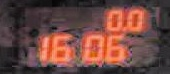-: (120, 25, 125, 29)
0: (80, 33, 103, 60), (103, 8, 122, 29), (125, 8, 143, 30)
1: (37, 34, 48, 60)
6: (103, 32, 125, 61), (48, 33, 70, 60)
